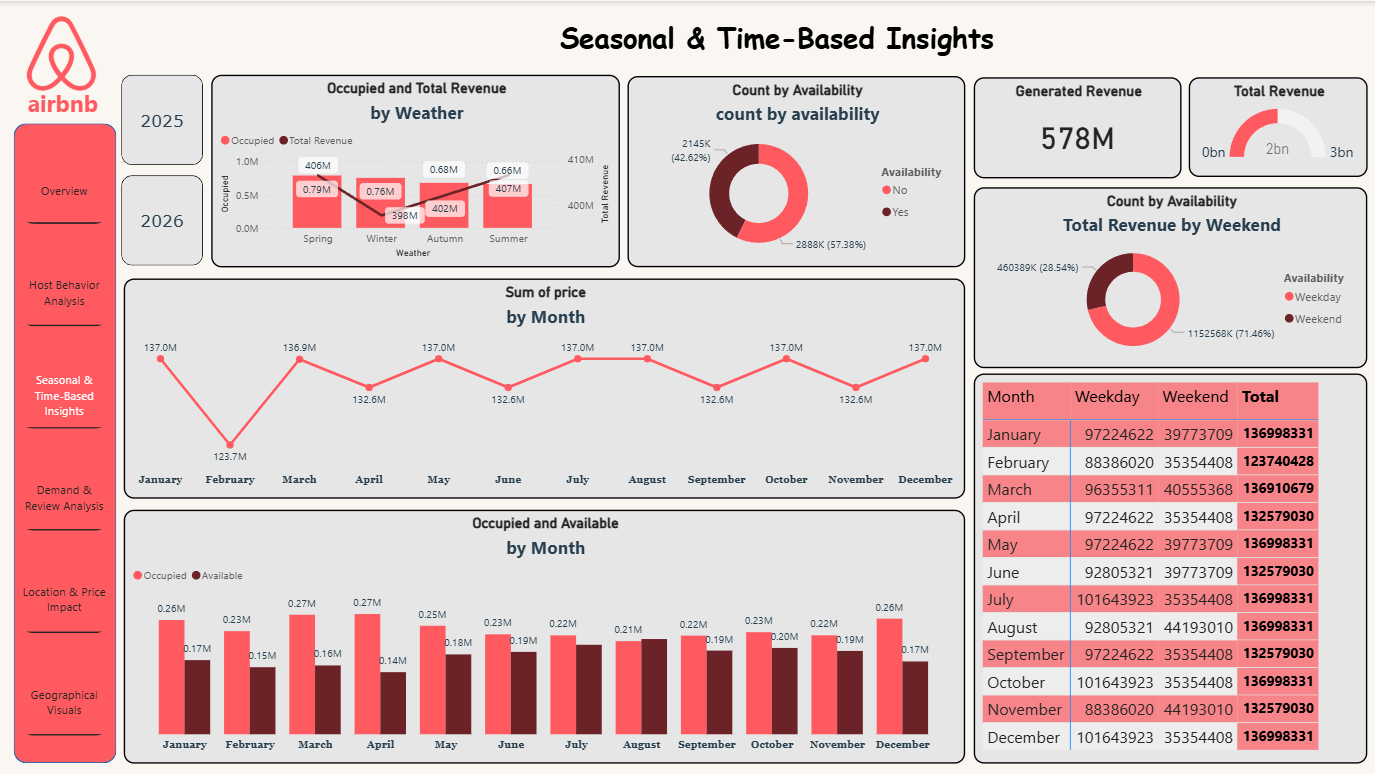

What the dashboard file says about the page in this screenshot:
{"tool":"powerbi","page":{"name":"Seasonal & Time-Based Insights","canvas":[1600,900],"ordinal":2},"visuals":[{"type":"donutChart","title":"Count by Availability","fields":{"Y":["cleaned_Calender_data.count"],"Category":["cleaned_Calender_data.availability"]},"box":[729.7,87.2,392.4,222.4],"z":0},{"type":"lineChart","fields":{"Y":["Sum(cleaned_Calender_data.price)"],"Category":["cleaned_Calender_data.Month"]},"box":[143.9,322.7,978.2,255.8],"z":1000},{"type":"card","title":"Generated Revenue","fields":{"Values":["Sum(cleaned_Calender_data.Revenue)"]},"box":[1132.3,88.7,241.3,117.7],"z":2000},{"type":"textbox","box":[208.2,15.1,1391.2,70],"z":3000},{"type":"advancedSlicerVisual","fields":{"Values":["cleaned_Calender_data.Year"]},"box":[141,85.8,95.9,223.8],"z":4000},{"type":"lineClusteredColumnComboChart","fields":{"Y":["Measures (2).Occupied"],"Category":["cleaned_Calender_data.Weather"],"Y2":["Measures (2).Total Revenue"]},"box":[245.6,85.8,475.3,223.8],"z":5000},{"type":"donutChart","title":"Count by Availability","fields":{"Category":["cleaned_Calender_data.Weekend"],"Y":["Measures (2).Total Revenue"]},"box":[1132.3,216.6,457.9,210.8],"z":6000},{"type":"gauge","fields":{"Y":["Measures (2).Total Revenue"]},"box":[1382.3,88.7,207.8,116.3],"z":7000},{"type":"clusteredColumnChart","fields":{"Category":["cleaned_Calender_data.Month"],"Y":["Measures (2).Occupied","Measures (2).Available"]},"box":[143.9,591.6,978.2,295.1],"z":8000},{"type":"pivotTable","fields":{"Rows":["cleaned_Calender_data.Month"],"Values":["Measures (2).Total Revenue"],"Columns":["cleaned_Calender_data.Weekend"]},"box":[1132.3,433.1,457.9,453.5],"z":9000},{"type":"shape","box":[16.3,142.2,119.3,743.7],"z":10000},{"type":"textbox","box":[4.9,96.4,137.3,60.5],"z":11000},{"type":"image","box":[6.1,13.1,130.8,96.4],"z":12000},{"type":"pageNavigator","box":[20.8,179.8,109.8,679.5],"z":13000}]}

Visuals, with their boxes in screenshot pixels (x1, y1, x2, y2), scaled from the page's 1600x900 canvas onto the 1375x774 screenshot:
"Count by Availability" donutChart: rect(627, 75, 964, 266)
lineChart - Sum(cleaned_Calender_data.price) x cleaned_Calender_data.Month: rect(124, 278, 964, 498)
"Generated Revenue" card: rect(973, 76, 1180, 178)
textbox: rect(179, 13, 1374, 73)
advancedSlicerVisual - cleaned_Calender_data.Year: rect(121, 74, 204, 266)
lineClusteredColumnComboChart - Measures (2).Occupied x cleaned_Calender_data.Weather: rect(211, 74, 620, 266)
"Count by Availability" donutChart: rect(973, 186, 1367, 368)
gauge - Measures (2).Total Revenue: rect(1188, 76, 1366, 176)
clusteredColumnChart - cleaned_Calender_data.Month x Measures (2).Occupied: rect(124, 509, 964, 763)
pivotTable - cleaned_Calender_data.Month x Measures (2).Total Revenue: rect(973, 372, 1367, 762)
shape: rect(14, 122, 117, 762)
textbox: rect(4, 83, 122, 135)
image: rect(5, 11, 118, 94)
pageNavigator: rect(18, 155, 112, 739)
